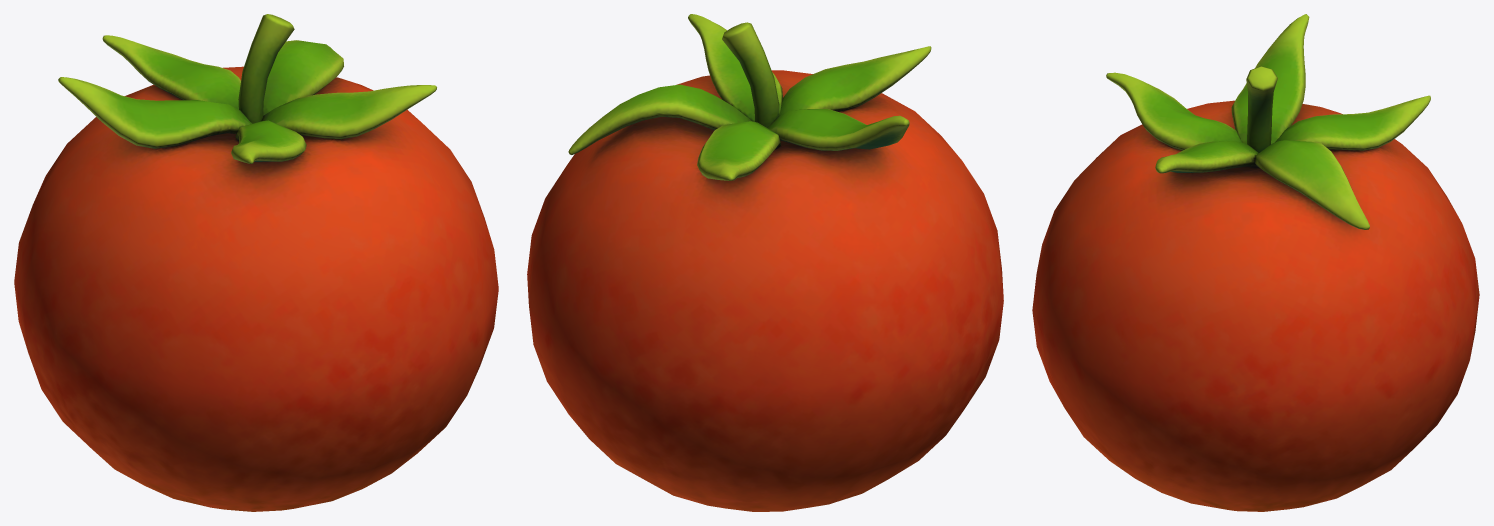
File: Tomato.fbx
3 renders of one model, left to right at view 1: azimuth 30°, elevation 25°; view 2: azimuth 150°, elevation 25°; view 3: azimuth 270°, elevation 25°, orthographic. The views are drawn at different scales.
Visible parts, largest first — view 1: Tomato_Whole; view 2: Tomato_Whole; view 3: Tomato_Whole.
Boxes of the visible parts, x1=… form: Tomato_Whole: x1=14, y1=14, x2=498, y2=511; Tomato_Whole: x1=527, y1=14, x2=1003, y2=511; Tomato_Whole: x1=1032, y1=14, x2=1479, y2=511.
Size of the model in its own units: 79.35 by 84.32 by 79.35.
